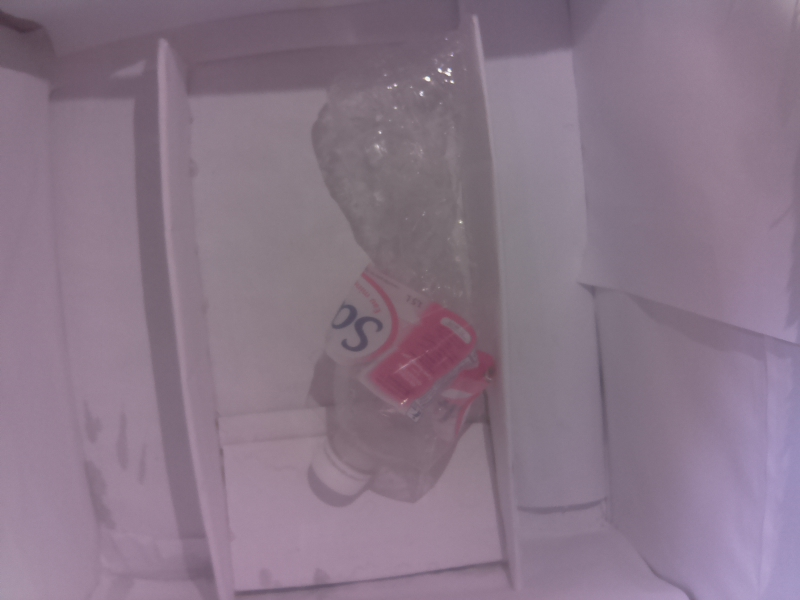botolplastik: (308, 34, 489, 493)
